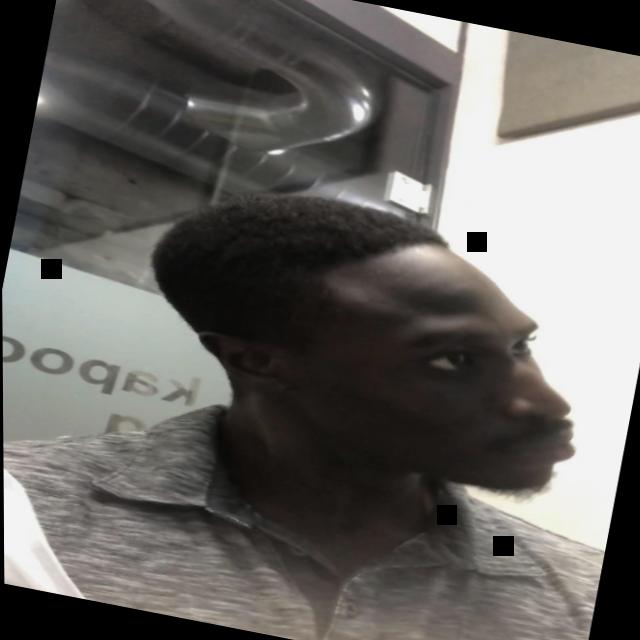NO-Mask: (214, 225, 603, 506)
